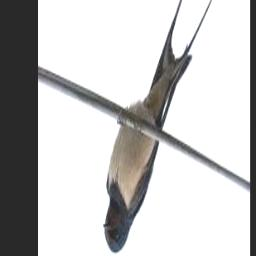Swallow: (103, 0, 218, 253)
